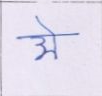e_matra: (35, 16, 56, 34)
